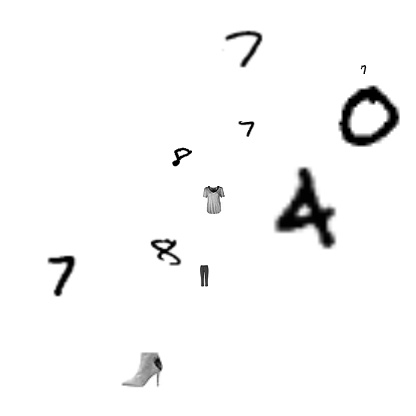0: (324, 74, 408, 158)
4: (251, 152, 363, 264)
7: (34, 242, 90, 298), (218, 15, 274, 71), (237, 115, 259, 137), (357, 62, 371, 76)
8: (145, 228, 187, 270), (166, 141, 194, 169)
Ankle_boot: (121, 348, 163, 390)
T-shirt/top: (200, 186, 228, 214)
Trouser: (193, 265, 215, 287)
